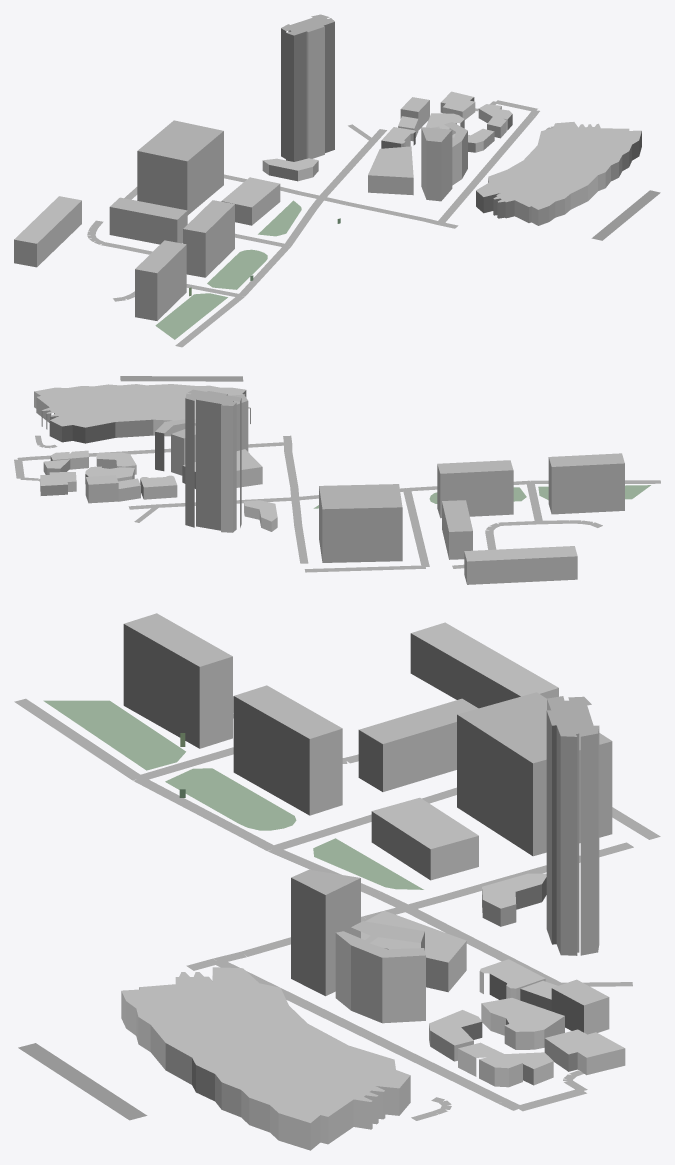
3 views of the same model, one above another, from view 1: azimuth 30°, elevation 25°; view 2: azimuth 150°, elevation 25°; view 3: azimuth 270°, elevation 25° (orthographic). The views are drawn at different scales.
Size of the model in its own units: 574 by 123 by 320.
